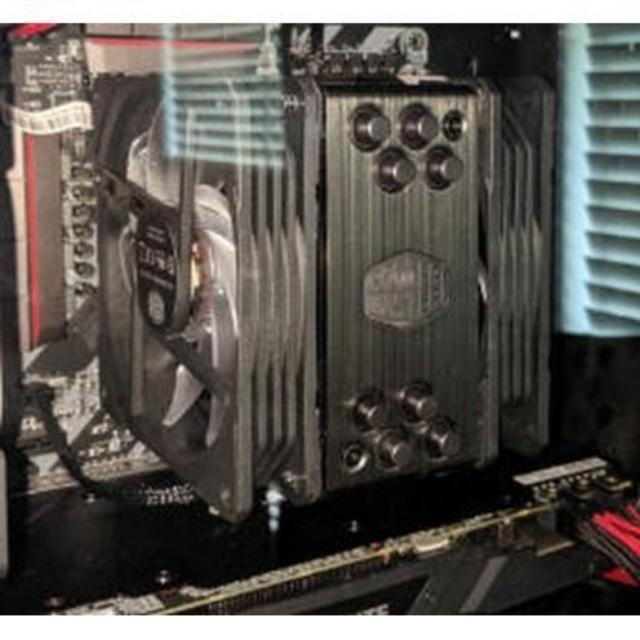CPU_Fan: (93, 58, 553, 510)
